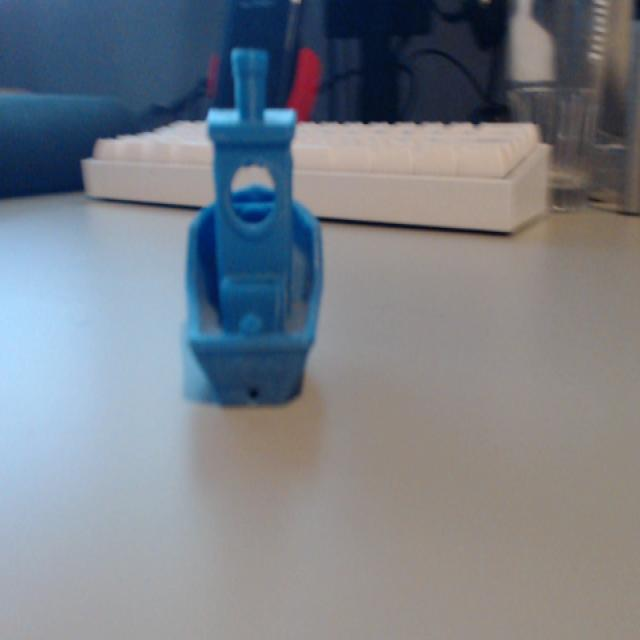benchy: (179, 45, 326, 408)
